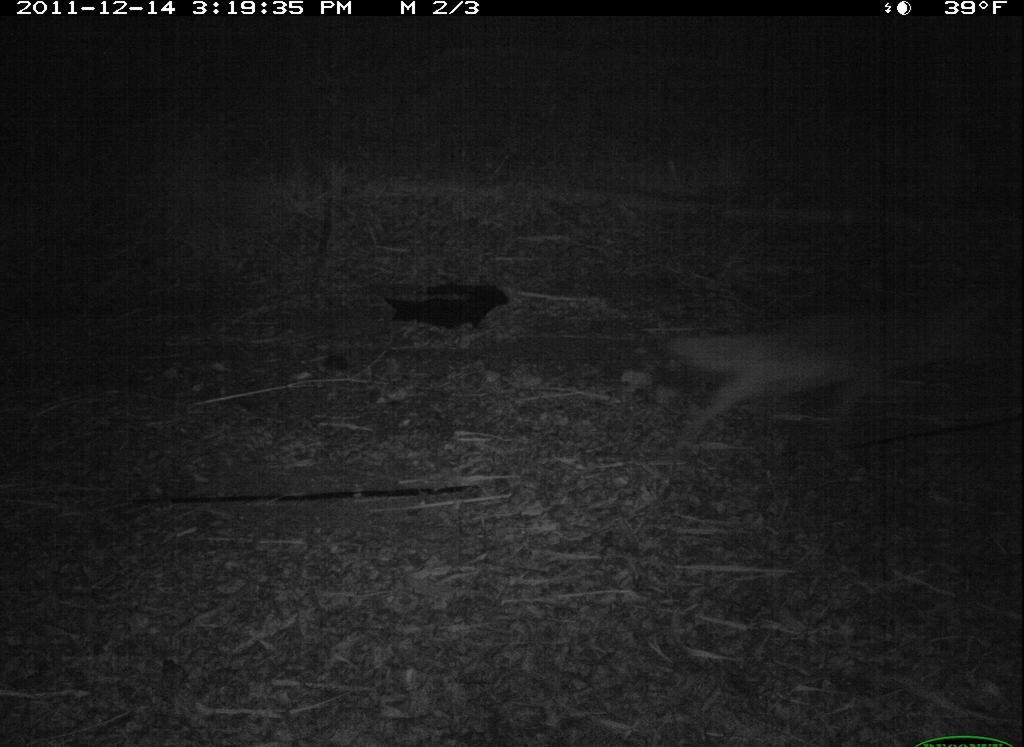coyote: (651, 285, 1017, 457)
